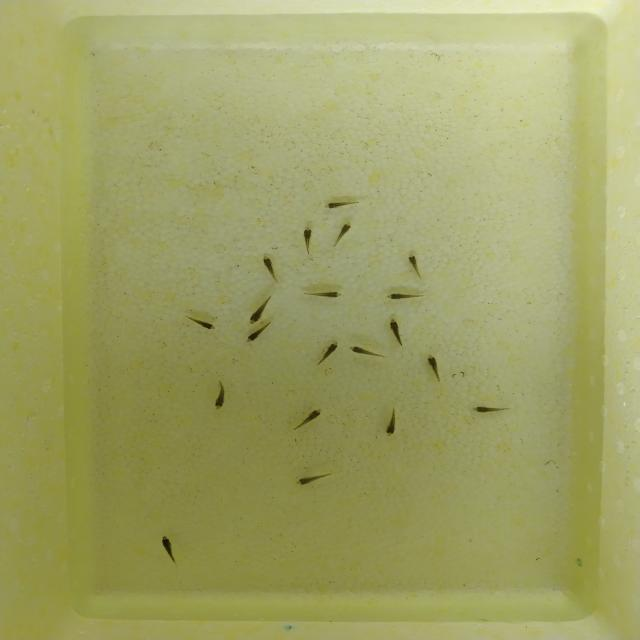fingerling: (154, 533, 186, 569), (258, 252, 286, 288), (292, 467, 340, 488), (290, 406, 328, 432), (421, 351, 448, 386), (244, 293, 273, 325), (208, 373, 230, 413), (180, 312, 221, 332), (384, 317, 408, 349), (315, 338, 342, 366), (382, 401, 402, 438), (403, 251, 426, 282), (332, 220, 354, 250), (321, 198, 366, 212), (298, 224, 316, 258), (383, 291, 430, 303), (468, 404, 514, 416), (300, 289, 345, 301), (242, 328, 268, 345), (347, 345, 379, 358)
